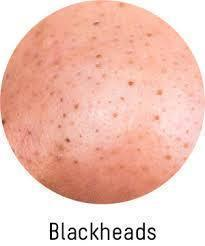blackhead: (56, 91, 88, 128), (81, 46, 124, 72), (92, 146, 118, 170), (152, 85, 177, 102), (88, 10, 107, 32), (122, 71, 139, 95), (148, 113, 169, 132), (62, 132, 76, 157), (110, 110, 127, 130)
